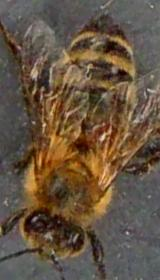varroa_mite: (88, 116, 126, 148)
